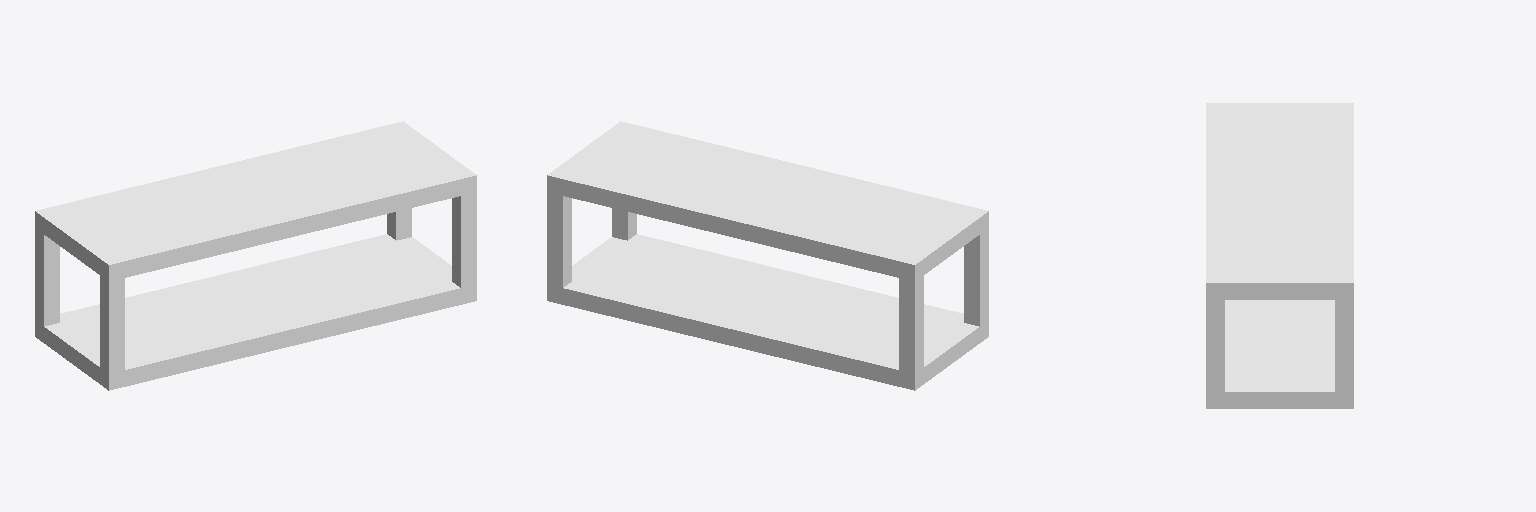
Rendered from polka1.obj.
The picture shows the model from 3 angles: view 1: azimuth 30°, elevation 25°; view 2: azimuth 150°, elevation 25°; view 3: azimuth 270°, elevation 25°; orthographic projection.
Parts seen in each view (by area): view 1: object 1; view 2: object 1; view 3: object 1.
Boxes of the visible parts, x1,y1,x2,y2 form: object 1: [35, 121, 476, 390]; object 1: [547, 121, 988, 390]; object 1: [1206, 103, 1353, 408].
Size of the model in its own units: 4.6 by 1.5 by 1.6.